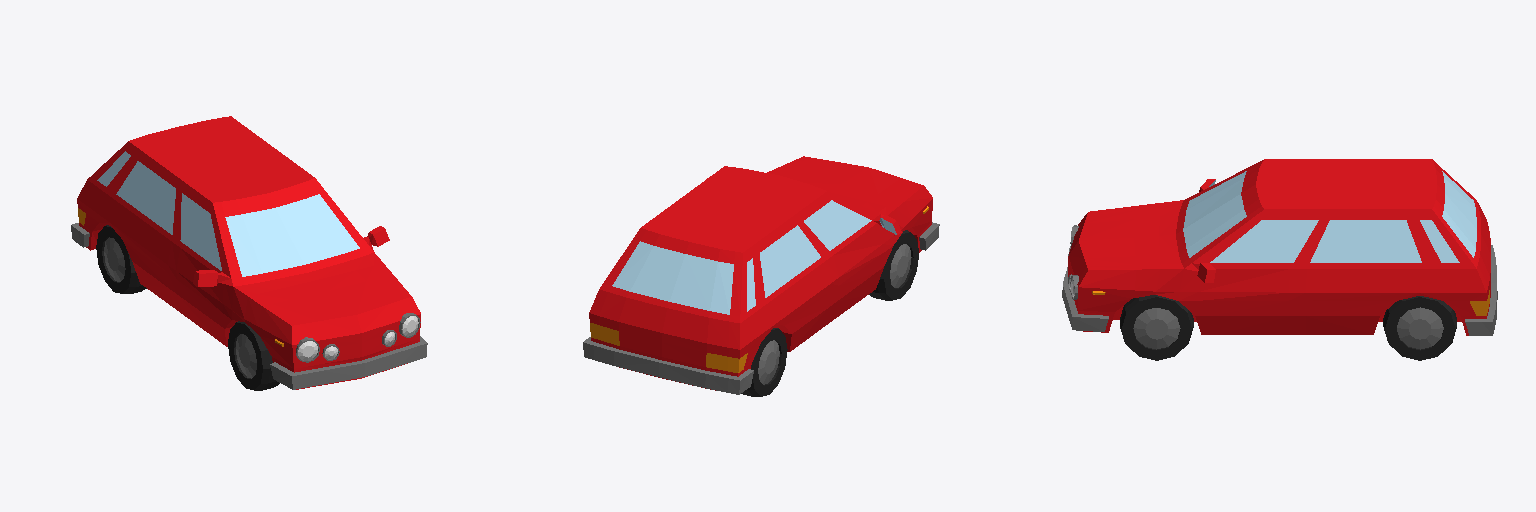
3 renders of one model, left to right at view 1: azimuth 30°, elevation 25°; view 2: azimuth 150°, elevation 25°; view 3: azimuth 270°, elevation 25°, orthographic.
Parts seen in each view (by area): view 1: Car; view 2: Car; view 3: Car.
Boxes of the visible parts, <box> form: Car: <box>71,116,427,390</box>; Car: <box>583,156,939,396</box>; Car: <box>1062,159,1497,360</box>.
Bounding box in the file's own units: 45.5 × 32.33 × 89.11.
1 materials, 1 textured.